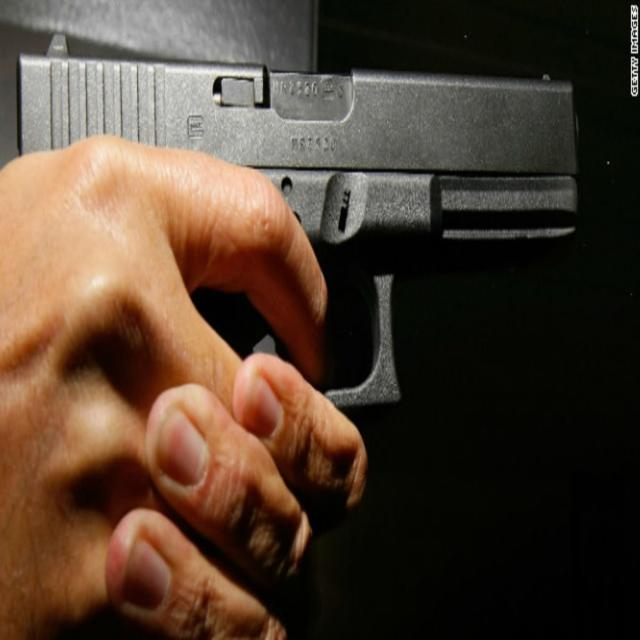HandGun: (18, 56, 578, 411)
